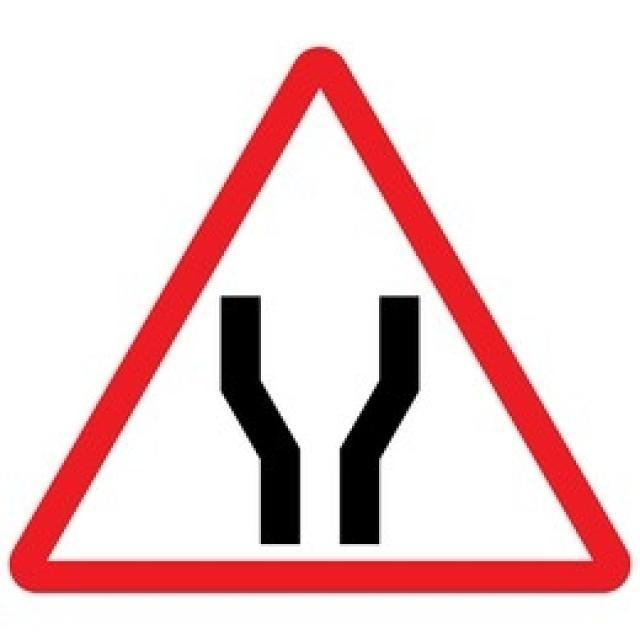road widens ahead: (22, 33, 606, 608)
